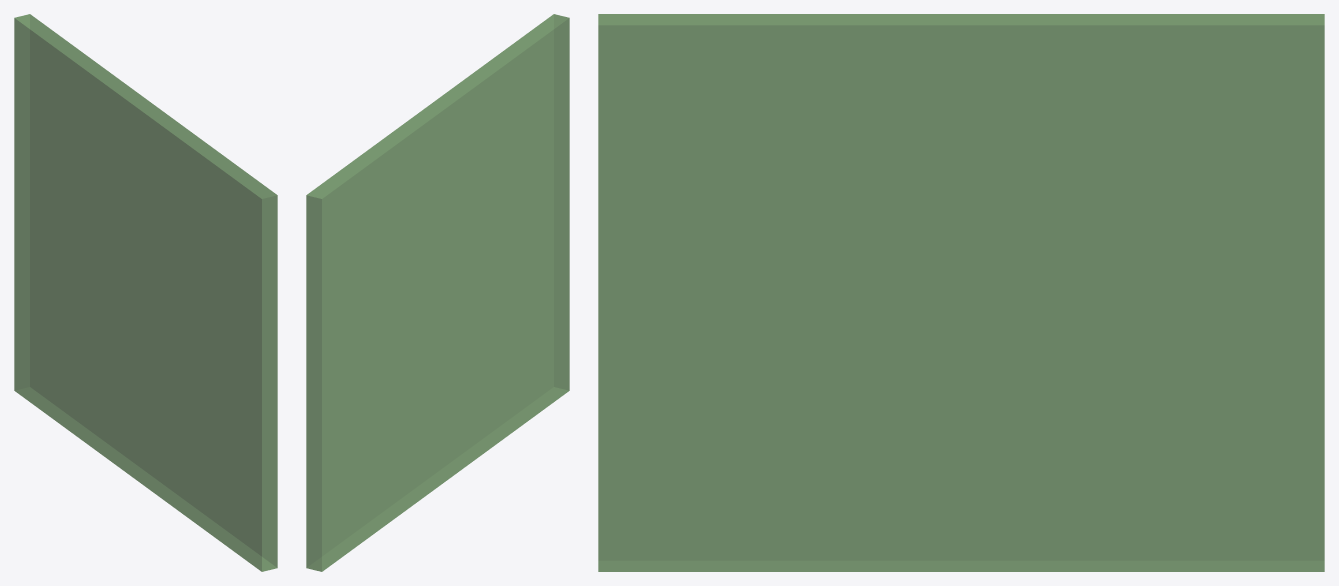
File: DishWasherDoor.obj
3 views of the same model, side by side, from view 1: azimuth 30°, elevation 25°; view 2: azimuth 150°, elevation 25°; view 3: azimuth 270°, elevation 25° (orthographic). The views are drawn at different scales.
Visible parts, largest first — view 1: Shape_IndexedFaceSet_Shape_IndexedFaceSet.191; view 2: Shape_IndexedFaceSet_Shape_IndexedFaceSet.191; view 3: Shape_IndexedFaceSet_Shape_IndexedFaceSet.191.
Part boxes in pixels (x1,y1,x2,y2): Shape_IndexedFaceSet_Shape_IndexedFaceSet.191: (14,14,277,571); Shape_IndexedFaceSet_Shape_IndexedFaceSet.191: (306,14,569,571); Shape_IndexedFaceSet_Shape_IndexedFaceSet.191: (598,14,1324,571).
Bounding box in the file's own units: 0.0265 × 0.5985 × 0.7203.
